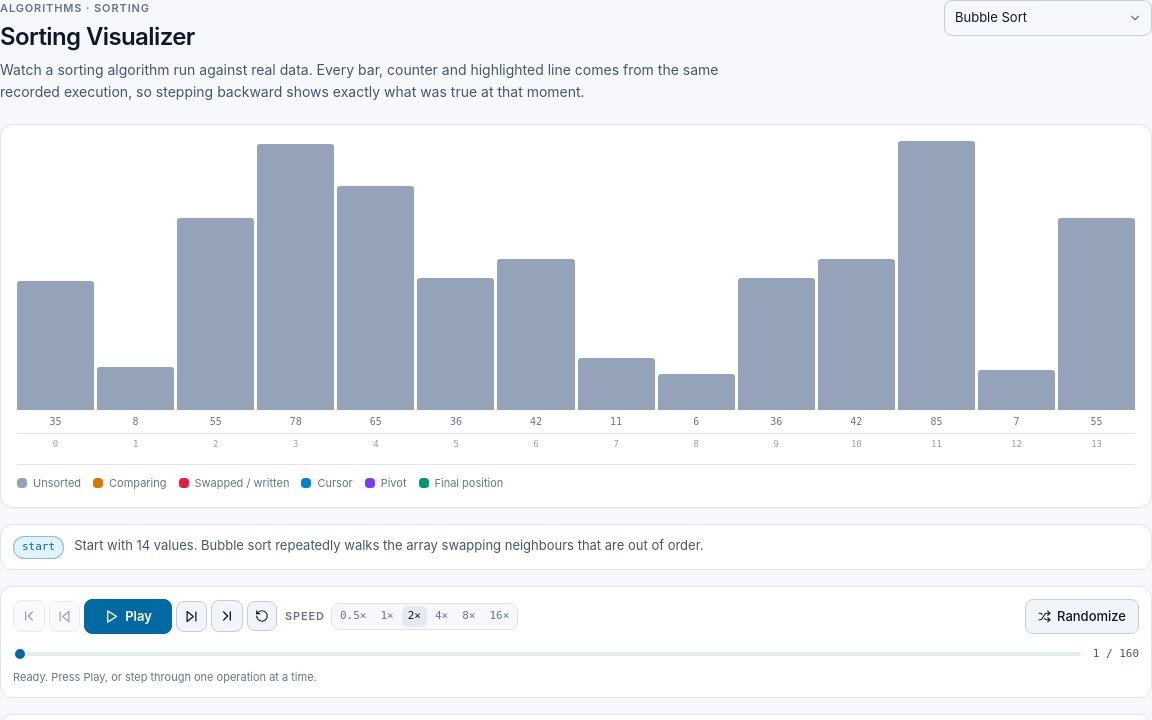
Test: SortingPage › shows complexity for the selected algorithm
The image size is (1152, 720).
Step 1. Select "Merge Sort" in the dropdown named "Algorithm" → coordinates (1048, 18), box [944,0,1151,36]
(page scrolled)
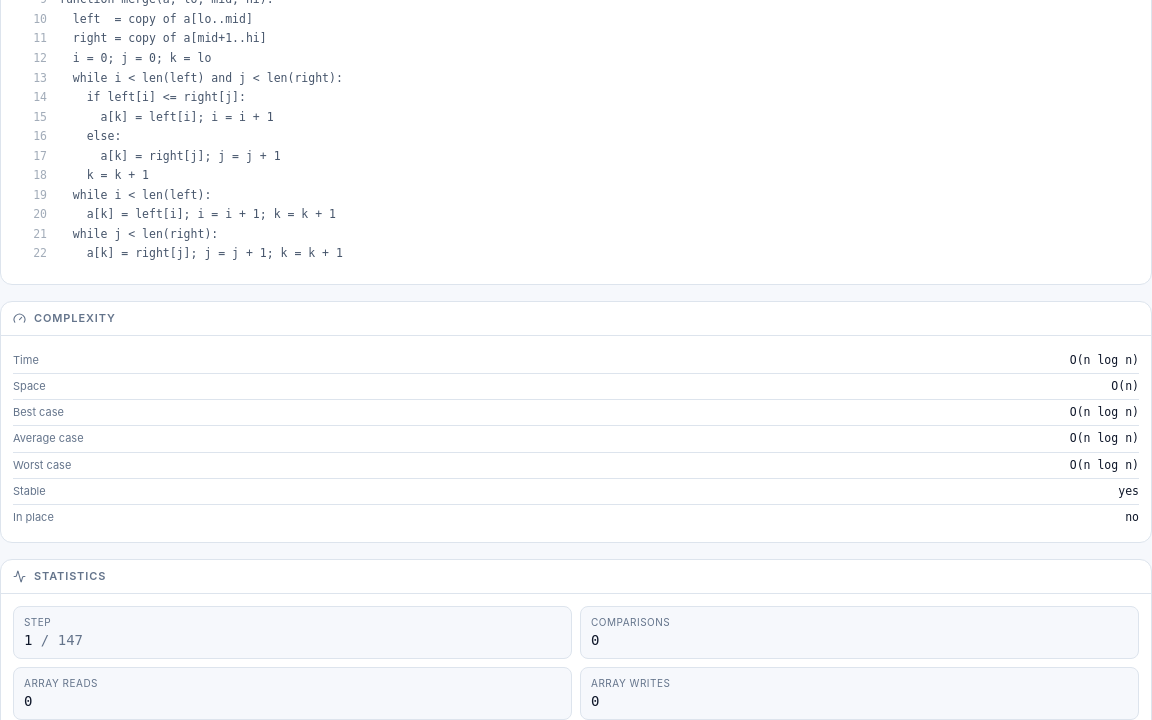
Now the 1st text "O(n log n)" is shown, box [1070,352,1139,369]
